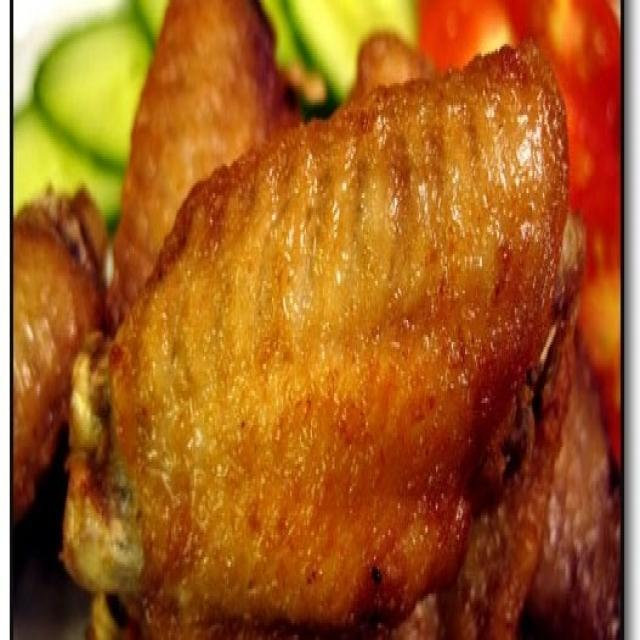Deep fried chicken wing: (106, 44, 566, 640)
